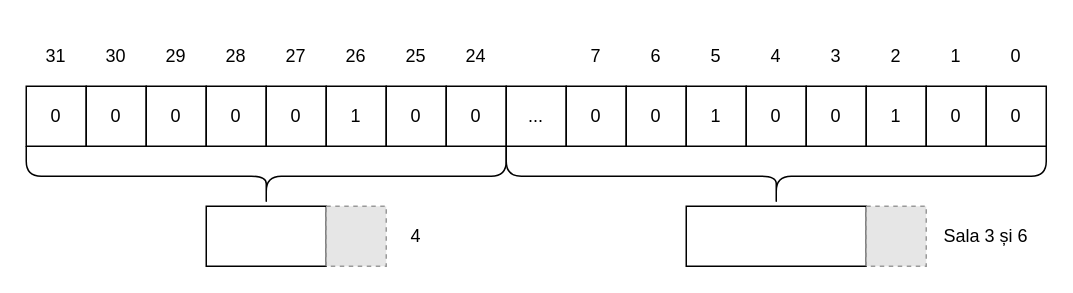
The diagram is 1073 pixels wide and 293 high, and some of its shapes have lost their labels. Grey dashed boxes stand in for pictures. The shapes that lost their labels are listed below. From the top down, each one's centre as x and y in pixels, then its label:
At (x=265, y=235): "ID furnică".
At (x=775, y=235): "Listă săli dorite din mușuroi".
